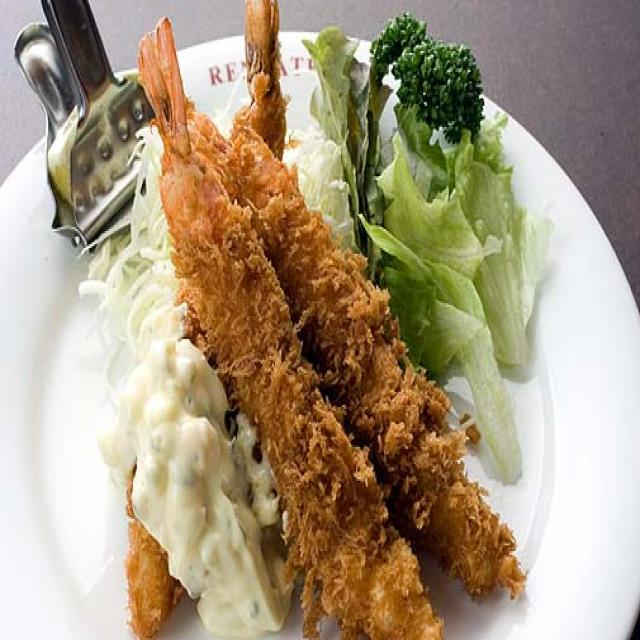炸货点心: (94, 0, 537, 640)
熟制海鲜: (94, 0, 537, 640)
